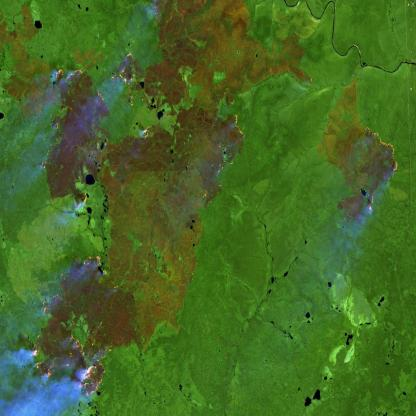fire: (27, 251, 114, 402), (53, 43, 141, 114), (358, 120, 404, 224), (67, 180, 97, 212)
